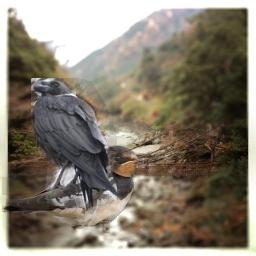Crow: (31, 78, 117, 214)
Swallow: (2, 143, 143, 233)
